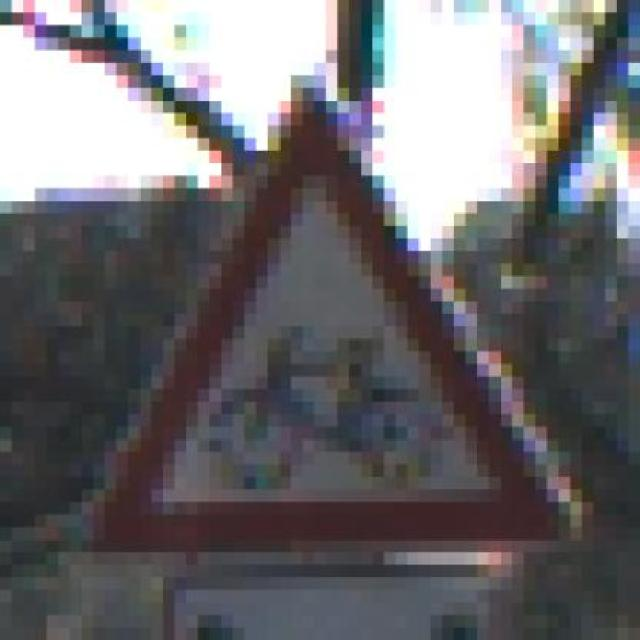CYCLE ROUTE AHEAD WARNING: (70, 75, 570, 552)
